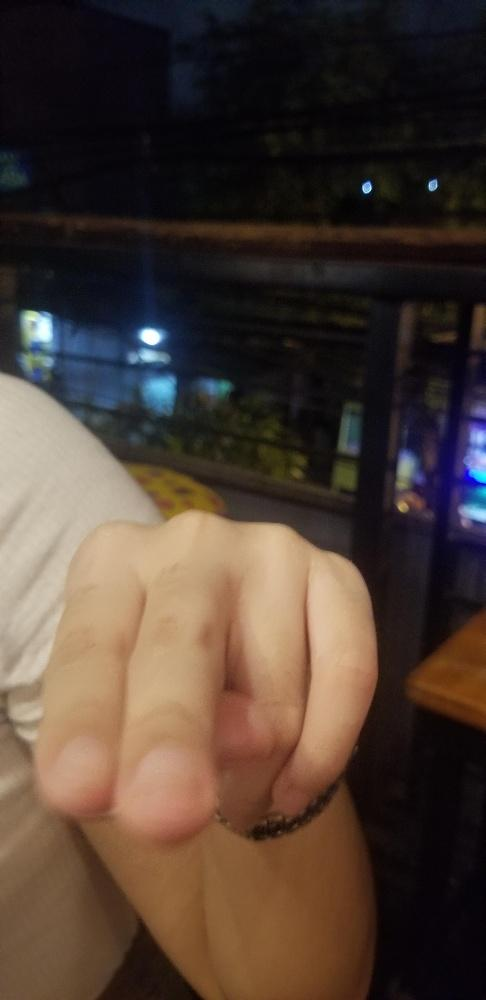n: (33, 506, 379, 845)
